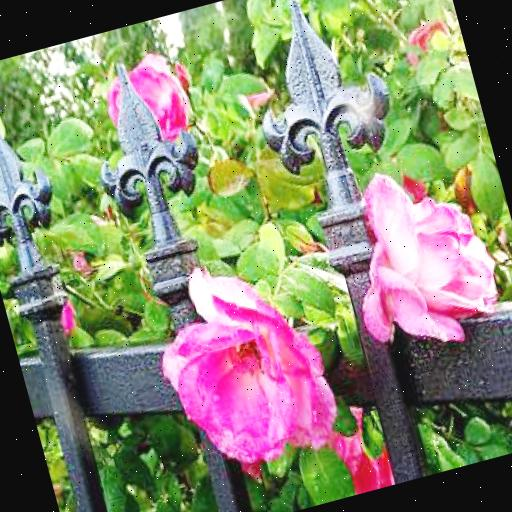rose: (138, 244, 346, 482), (326, 146, 510, 352)
